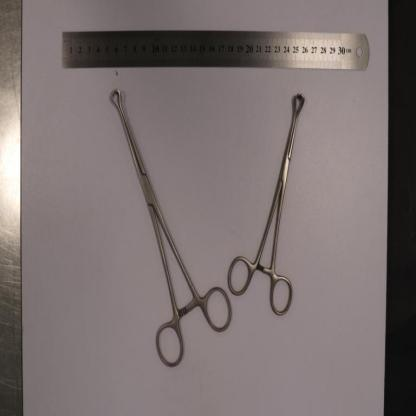8 Babcock Tissue Forceps: (110, 89, 231, 367)
Babcock Tissue Forceps: (228, 92, 304, 314)
